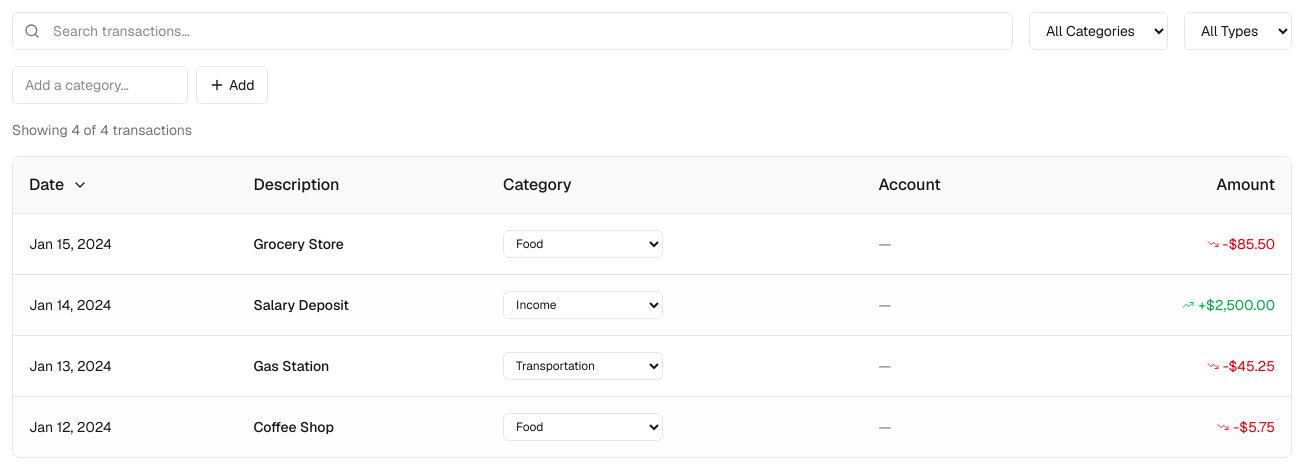
Test case: TransactionTable › filters transactions by category
Select "Food" in the dropdown named "Filter by category": (1098, 31) [1029,12,1168,50]
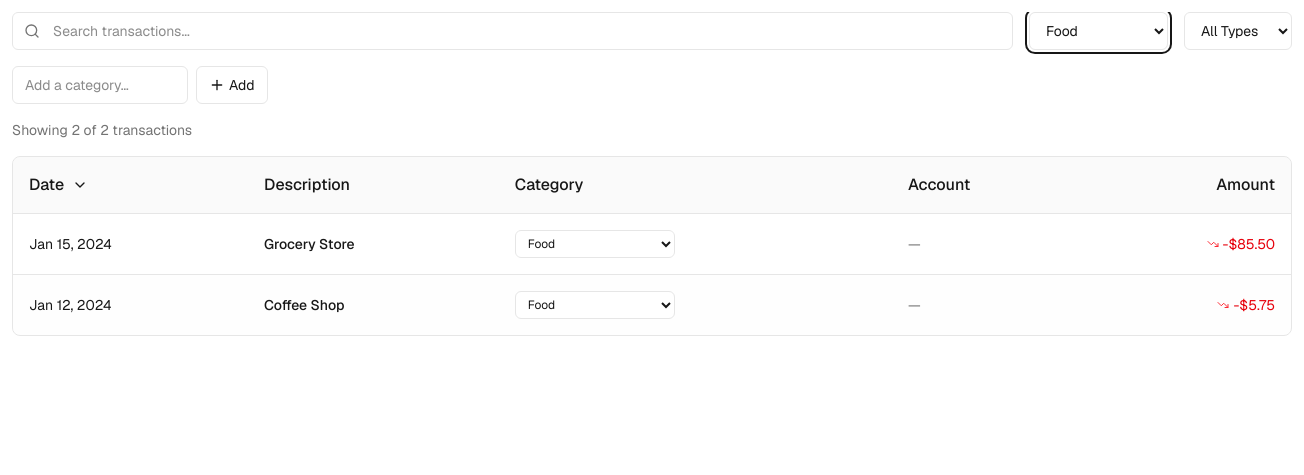
Expected: the text "Grocery Store" is shown, [248,214,499,274]
Expected: the text "Gas Station" is gone
Expected: the text "Showing 2 of 2 transactions" is shown, [12,121,192,139]
